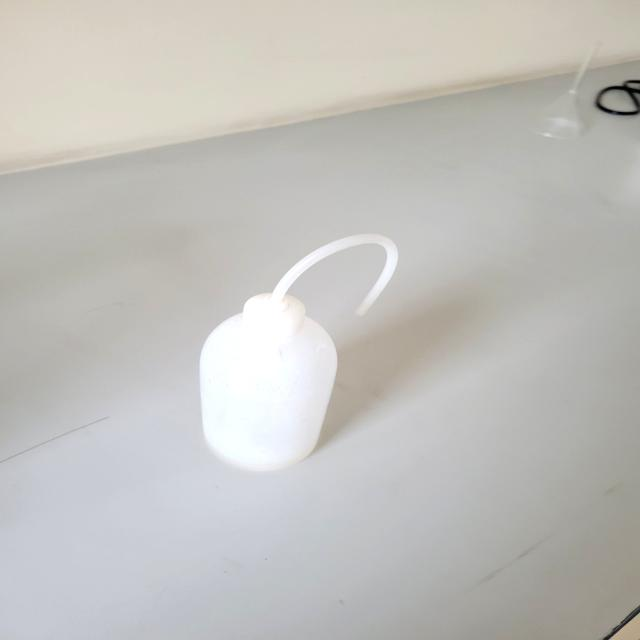Wash_Bottle: (175, 221, 413, 510)
